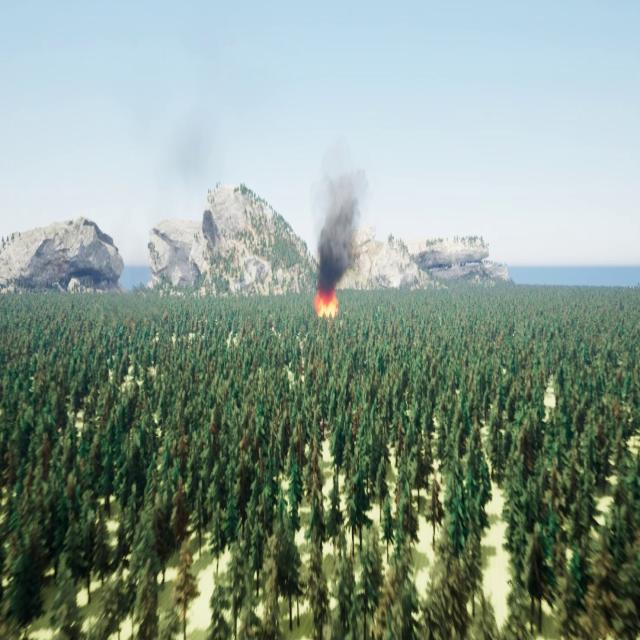fire: (314, 289, 342, 326)
smoke: (318, 157, 369, 287)
